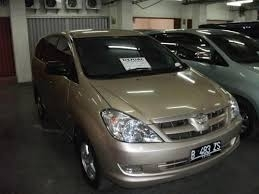plate: (191, 142, 222, 161)
